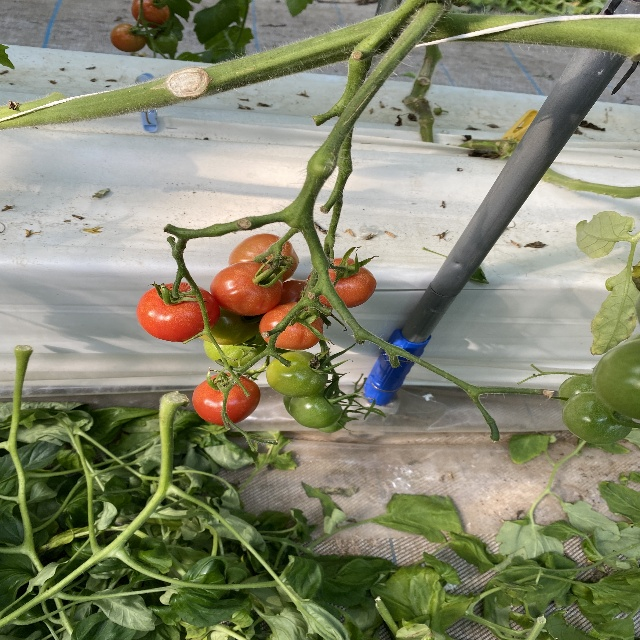l_fully_ripened: (137, 282, 220, 343), (209, 261, 284, 315), (191, 372, 261, 426), (307, 259, 377, 309), (130, 0, 170, 28), (276, 280, 309, 307)
l_green: (593, 338, 639, 420), (561, 392, 633, 444), (265, 350, 329, 398), (198, 308, 271, 346), (203, 332, 274, 367), (289, 389, 342, 428), (558, 375, 596, 407), (145, 27, 178, 54), (313, 410, 347, 434)
l_half_ripened: (227, 233, 300, 282), (259, 303, 324, 350), (110, 24, 147, 53)
